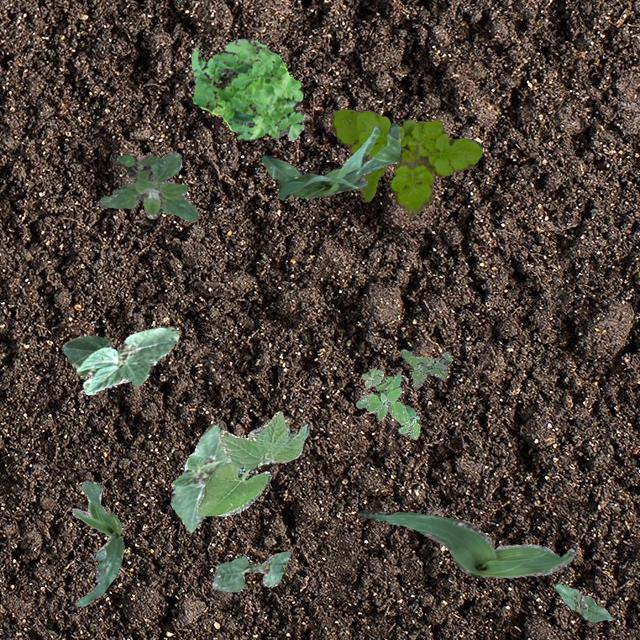crop: (358, 508, 574, 576), (195, 410, 308, 516), (260, 122, 400, 198), (62, 326, 176, 394), (70, 480, 124, 606), (170, 424, 228, 532), (210, 550, 290, 590), (552, 582, 612, 622)
weed: (328, 108, 482, 215), (190, 38, 304, 140), (98, 152, 198, 220), (354, 368, 418, 438), (400, 348, 450, 388)
